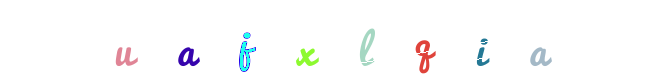A: (160, 0, 240, 80), (384, 0, 464, 80)
I: (373, 0, 453, 80)
J: (205, 0, 285, 80)
L: (295, 0, 375, 80)
Q: (364, 0, 444, 80)
U: (149, 0, 229, 80)
X: (266, 0, 346, 80)
